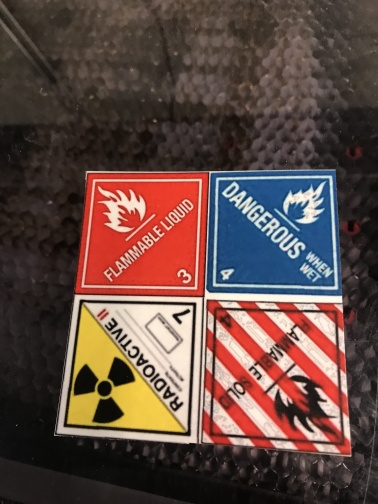DangerousWhenWet: (206, 171, 341, 293)
FlammableLiquid: (75, 173, 209, 294)
FlammableSolid: (201, 296, 351, 455)
Radioactive: (53, 294, 198, 443)
